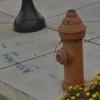a fire hydrant: (57, 9, 86, 92)
